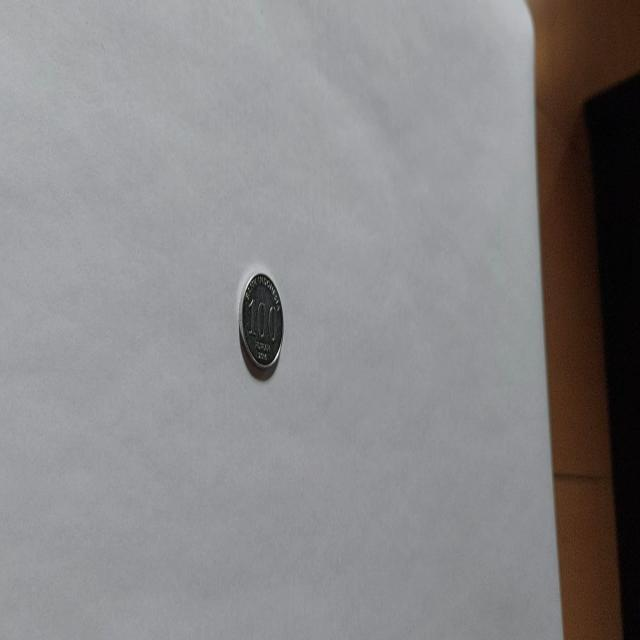seratus rupiah: (238, 270, 284, 372)
